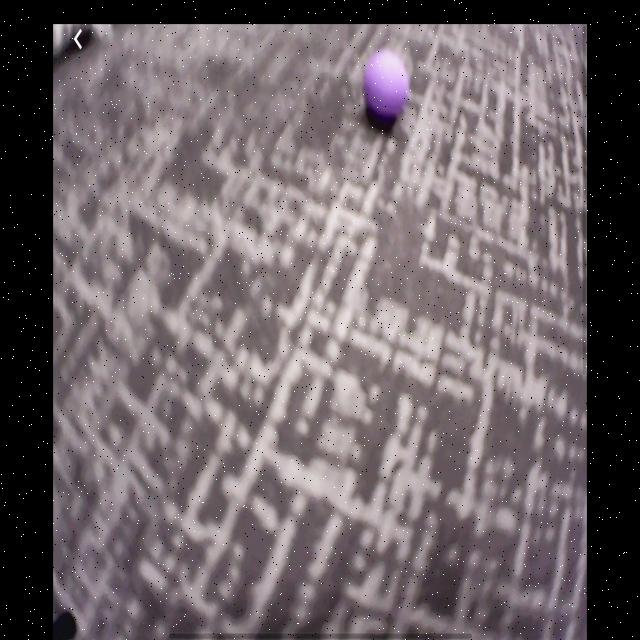ball: (363, 48, 412, 131)
